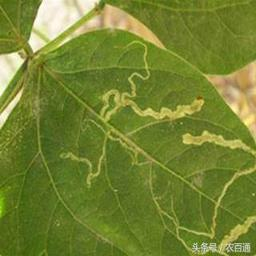liriomyza: (97, 39, 206, 123), (180, 129, 256, 240), (59, 128, 149, 189), (172, 215, 256, 256)
